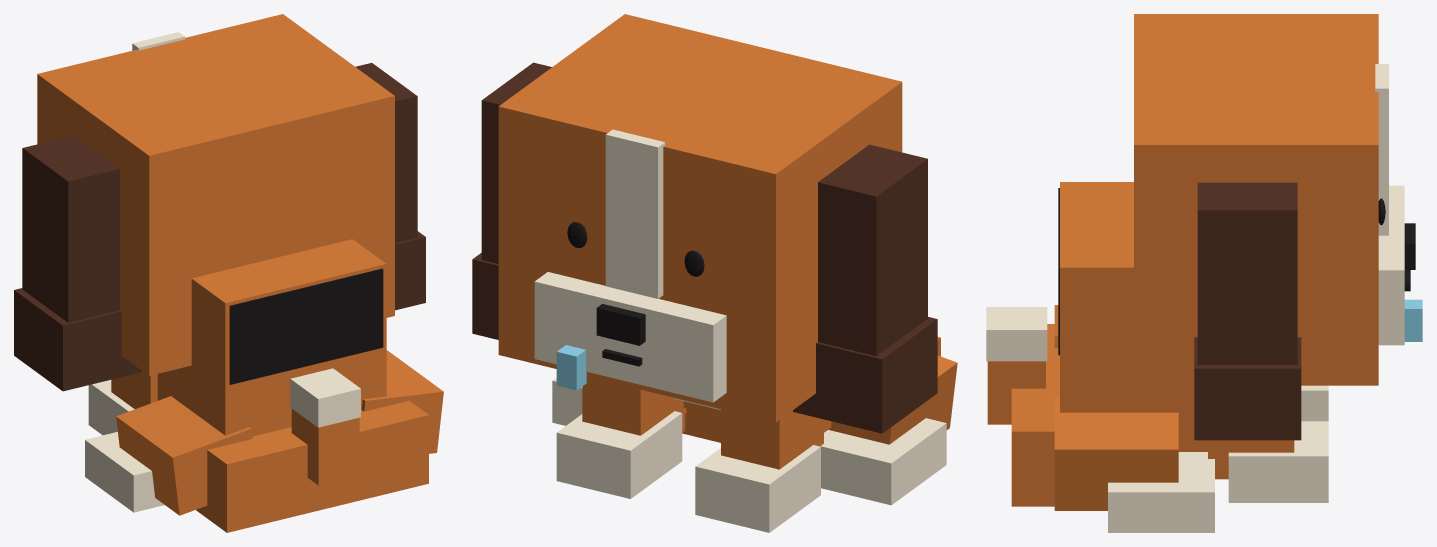
File: Beagle_Block.glb
3 renders of one model, left to right at view 1: azimuth 30°, elevation 25°; view 2: azimuth 150°, elevation 25°; view 3: azimuth 270°, elevation 25°, orthographic. The views are drawn at different scales.
Visible parts, largest first — view 1: NarrowHead, NarrowShortTorso, LongHangingEarL, GroundedRump, BlackBackSaddle, LegBL_Leg, SquareEarEndL, LongHangingEarR, LegBL_Paw, ShortTail, WhiteTailEnd, LegBR_Leg (+3 smaller); view 2: NarrowHead, LongHangingEarL, WhiteMuzzle, SquareEarEndL, WhiteCenterStripe, LegFR_Paw, LegFL_Paw, LegBL_Paw, LegFL_Leg, LegFR_Leg, LongHangingEarR, LegBL_Leg (+5 smaller); view 3: NarrowHead, NarrowShortTorso, LongHangingEarR, LegBR_Leg, SquareEarEndR, LegBR_Paw, LegFR_Paw, GroundedRump, WhiteMuzzle, WhiteTailEnd, ShortTail, WhiteCenterStripe (+4 smaller).
Part boxes in pixels (<box>): NarrowHead: <box>37,14,394,375</box>; NarrowShortTorso: <box>157,239,386,436</box>; LongHangingEarL: <box>22,135,119,322</box>; GroundedRump: <box>196,400,428,532</box>; BlackBackSaddle: <box>229,268,383,384</box>; LegBL_Leg: <box>116,396,252,515</box>; SquareEarEndL: <box>14,288,141,391</box>; LongHangingEarR: <box>355,63,417,242</box>; LegBL_Paw: <box>85,431,164,512</box>; ShortTail: <box>291,408,359,485</box>; WhiteTailEnd: <box>290,368,360,427</box>; LegBR_Leg: <box>361,350,443,453</box>; NarrowHead: <box>498,14,902,422</box>; LongHangingEarL: <box>818,144,927,356</box>; WhiteMuzzle: <box>534,272,726,402</box>; SquareEarEndL: <box>793,317,937,433</box>; WhiteCenterStripe: <box>605,129,665,298</box>; LegFR_Paw: <box>556,411,682,498</box>; LegFL_Paw: <box>695,445,820,532</box>; LegBL_Paw: <box>820,418,946,505</box>; LegFL_Leg: <box>721,409,823,469</box>; LegFR_Leg: <box>582,376,685,435</box>; LongHangingEarR: <box>481,62,551,263</box>; LegBL_Leg: <box>828,355,957,444</box>; NarrowHead: <box>1134,14,1378,385</box>; NarrowShortTorso: <box>1060,182,1207,451</box>; LongHangingEarR: <box>1197,182,1297,364</box>; LegBR_Leg: <box>1054,397,1178,510</box>; SquareEarEndR: <box>1194,337,1301,440</box>; LegBR_Paw: <box>1108,452,1214,532</box>; LegFR_Paw: <box>1228,421,1328,502</box>; GroundedRump: <box>1011,324,1059,506</box>; WhiteMuzzle: <box>1378,185,1404,345</box>; WhiteTailEnd: <box>986,307,1047,361</box>; ShortTail: <box>987,361,1045,424</box>; WhiteCenterStripe: <box>1375,64,1388,235</box>.
Bounding box in the file's own units: 2.66 × 2.41 × 2.53.
